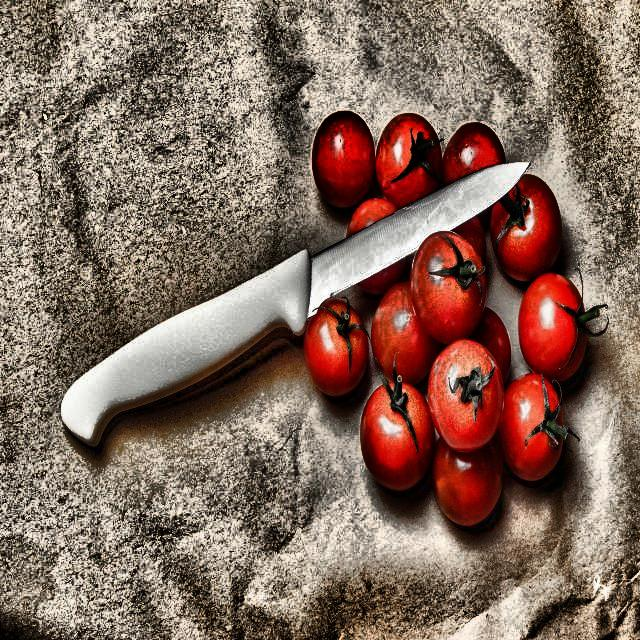knife: (62, 154, 534, 450)
